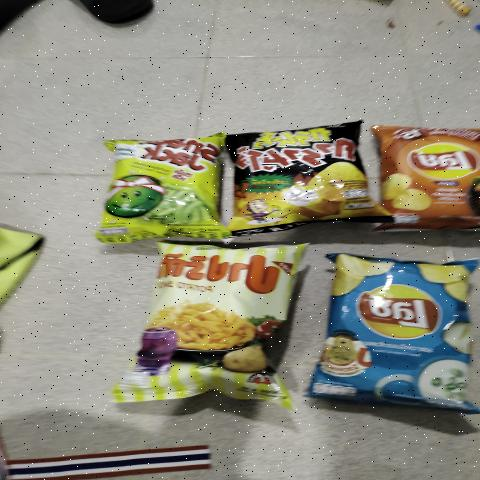karamujo: (233, 125, 359, 226)
lay_blue: (331, 269, 461, 398)
paprika: (138, 250, 290, 397)
snack_jack: (106, 139, 215, 238)
